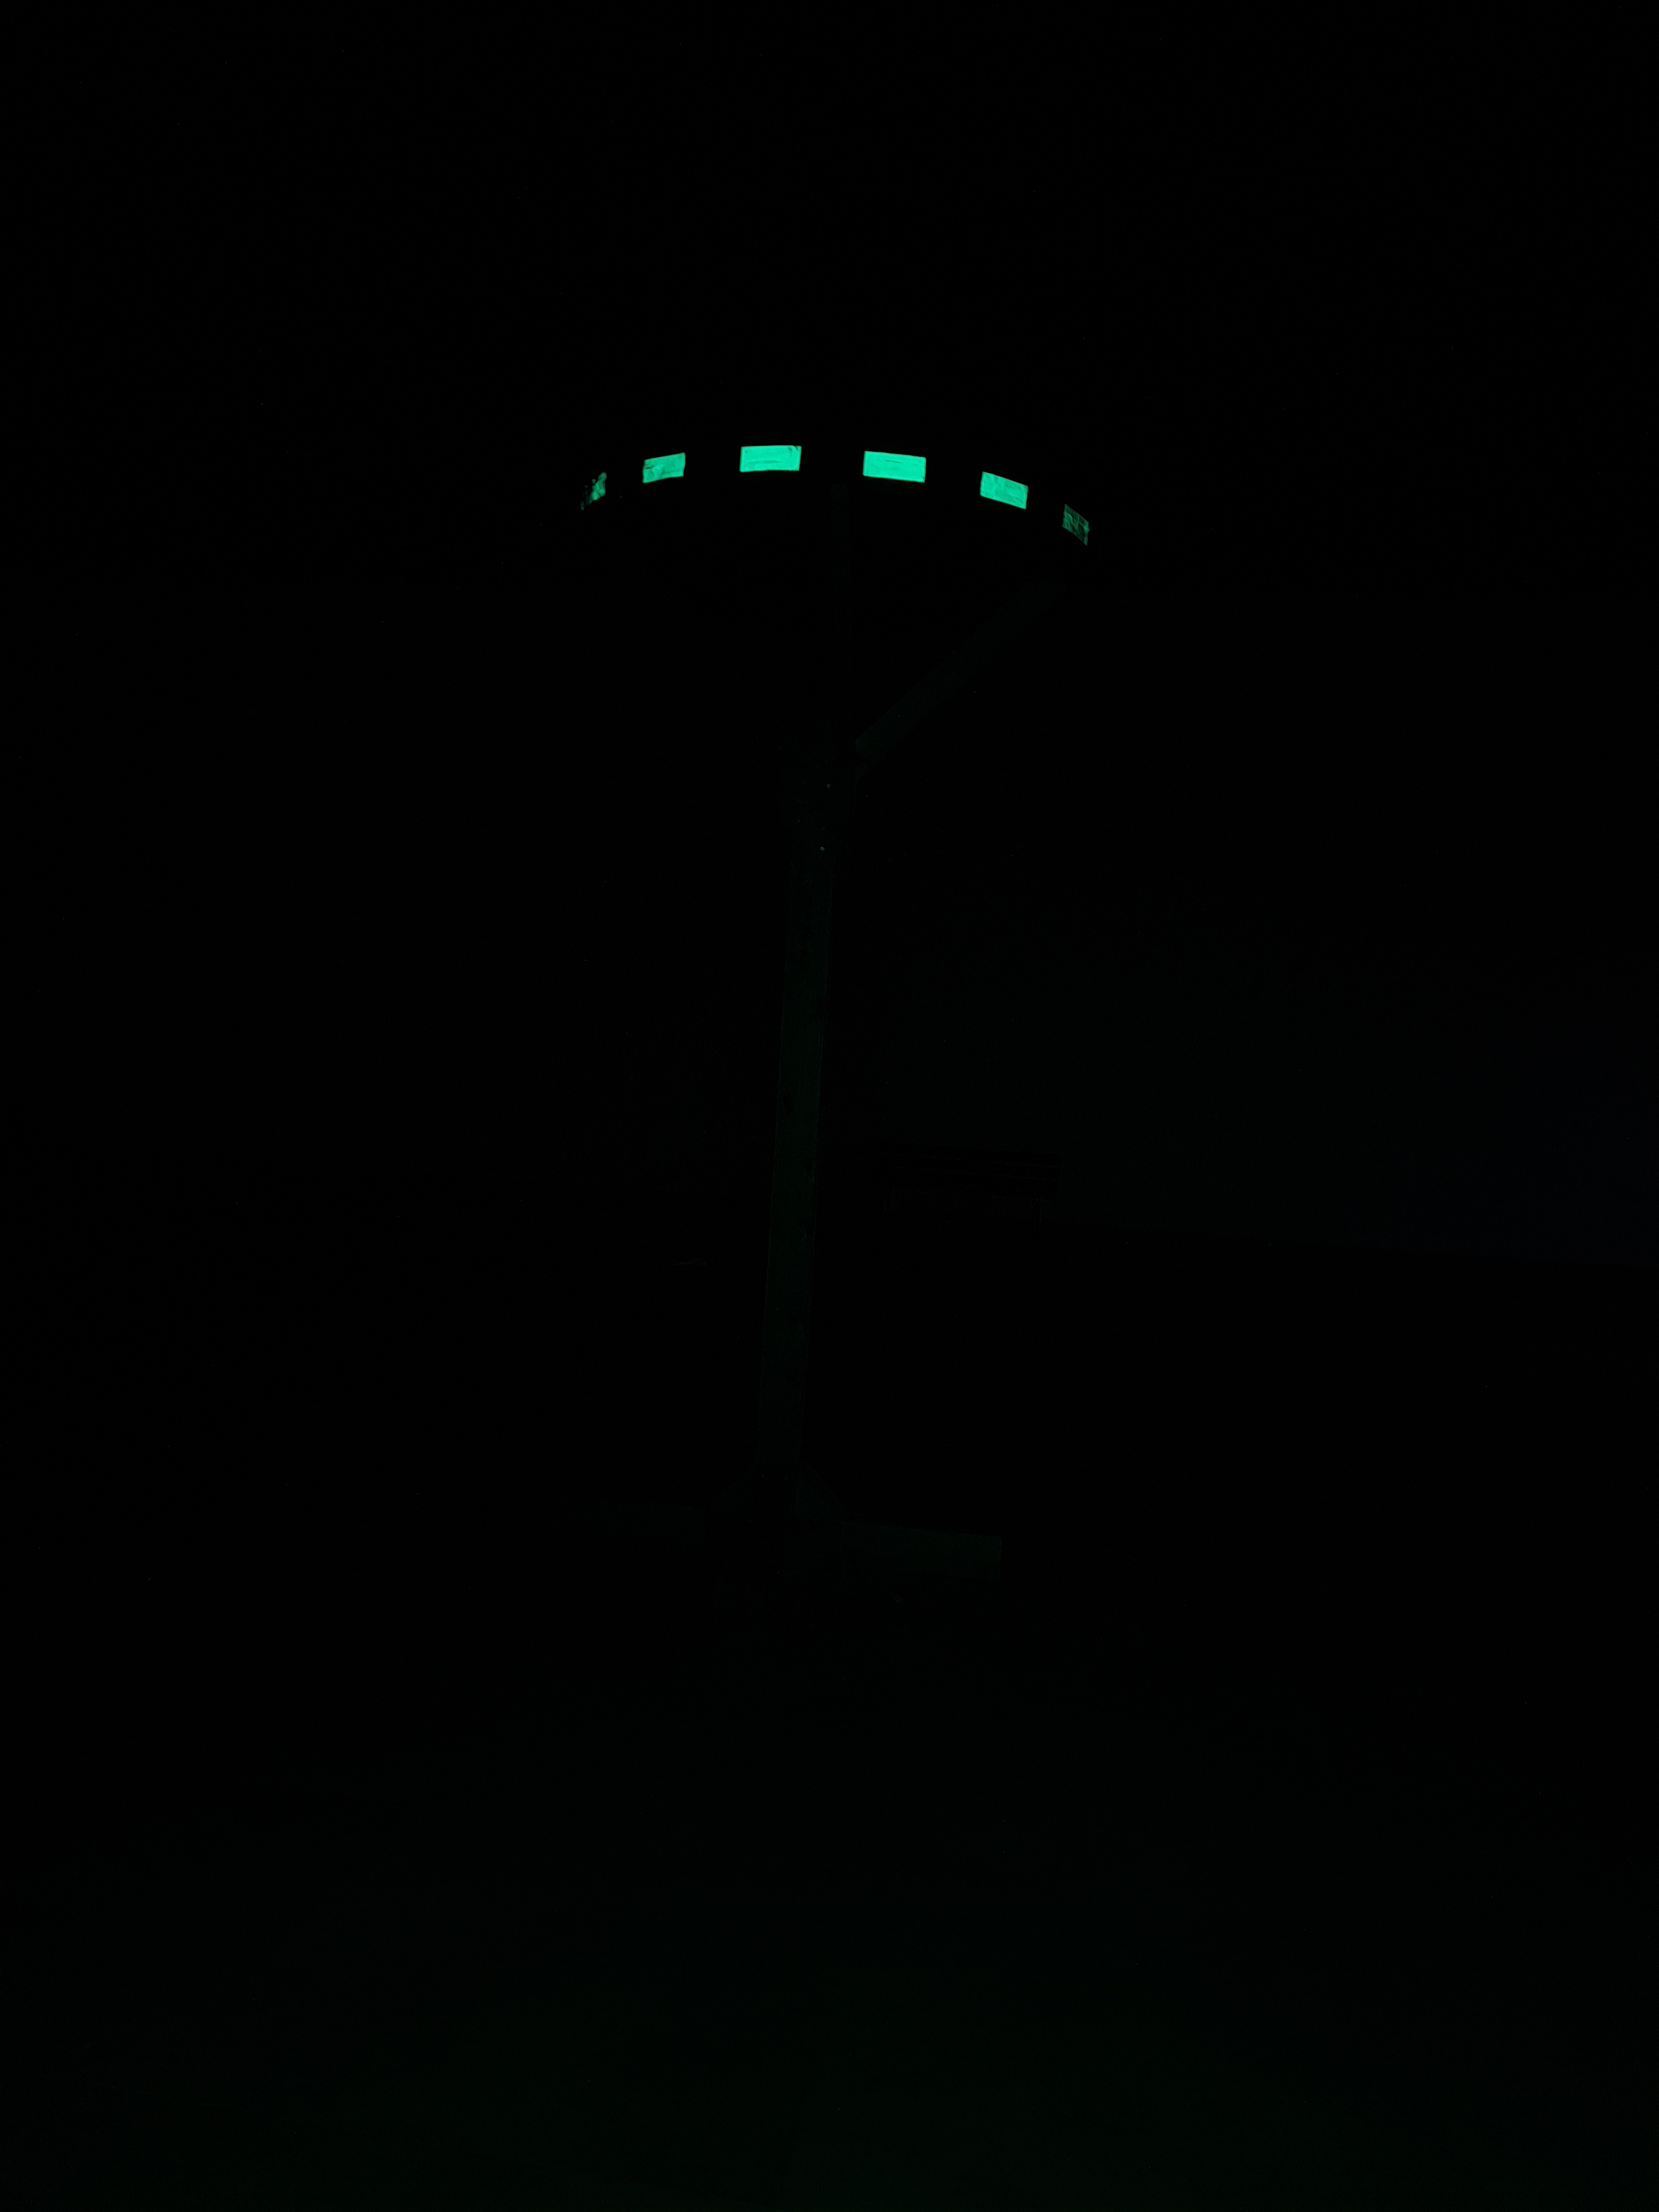hoop: (570, 442, 1096, 554)
